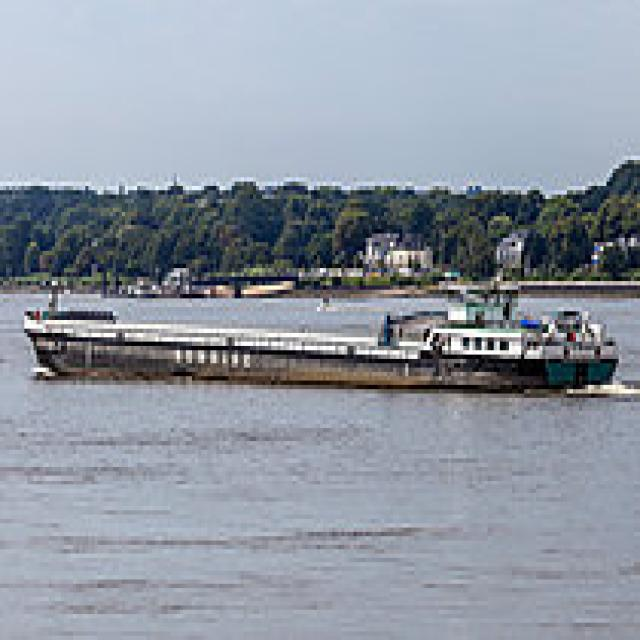Cargo: (15, 255, 619, 389)
